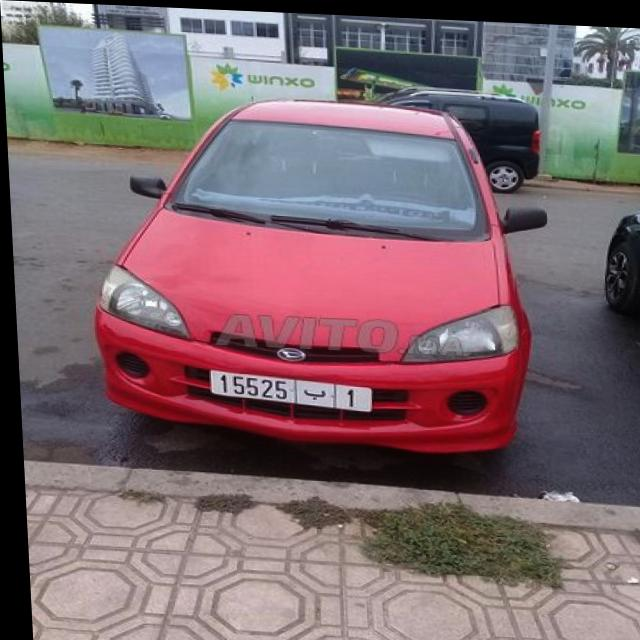License-Plate: (207, 369, 367, 409)
